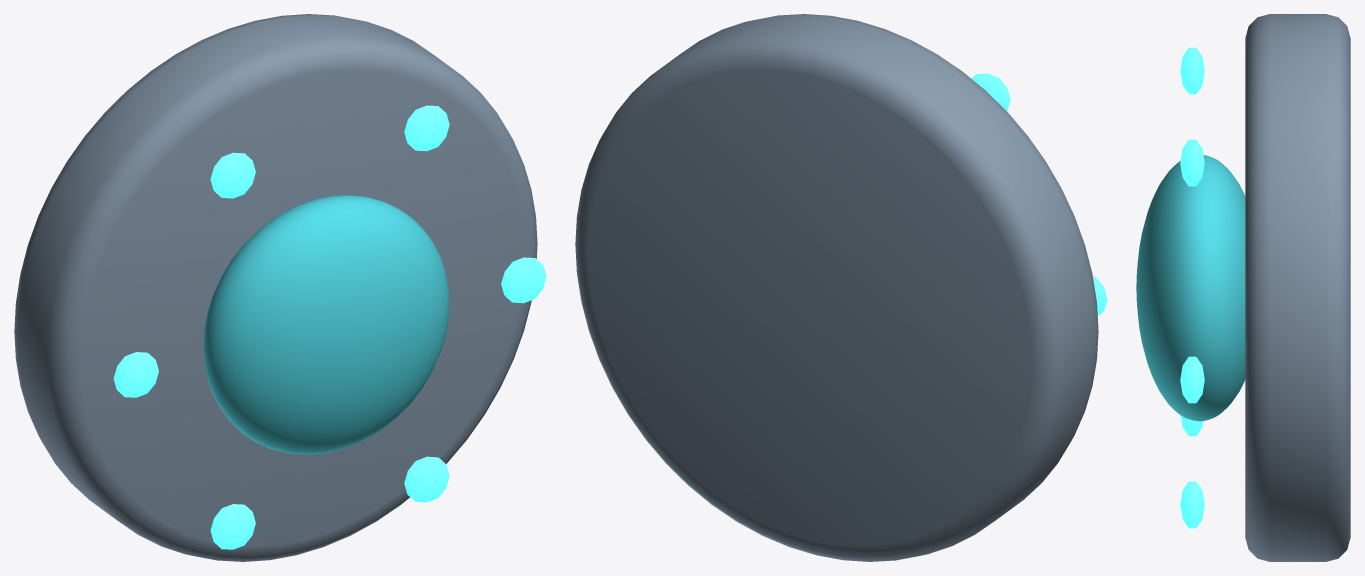
The model's file is shield_v4.glb.
3 views of the same model, side by side, from view 1: azimuth 30°, elevation 25°; view 2: azimuth 150°, elevation 25°; view 3: azimuth 270°, elevation 25° (orthographic). The views are drawn at different scales.
Parts seen in each view (by area): view 1: BUCKLER_PRIMARY, BUCKLER_BOSS_ACCENT, BUCKLER_STUD_EMISSIVE.004, BUCKLER_STUD_EMISSIVE.003, BUCKLER_STUD_EMISSIVE.001, BUCKLER_STUD_EMISSIVE, BUCKLER_STUD_EMISSIVE.002, BUCKLER_STUD_EMISSIVE.005; view 2: BUCKLER_PRIMARY, BUCKLER_STUD_EMISSIVE.002; view 3: BUCKLER_PRIMARY, BUCKLER_BOSS_ACCENT, BUCKLER_STUD_EMISSIVE, BUCKLER_STUD_EMISSIVE.001, BUCKLER_STUD_EMISSIVE.002, BUCKLER_STUD_EMISSIVE.005, BUCKLER_STUD_EMISSIVE.004.
Part boxes in pixels (<box>): BUCKLER_PRIMARY: <box>14,14,537,561</box>; BUCKLER_BOSS_ACCENT: <box>203,195,449,454</box>; BUCKLER_STUD_EMISSIVE.004: <box>210,504,255,549</box>; BUCKLER_STUD_EMISSIVE.003: <box>113,352,158,397</box>; BUCKLER_STUD_EMISSIVE.001: <box>404,105,449,151</box>; BUCKLER_STUD_EMISSIVE: <box>501,257,546,303</box>; BUCKLER_STUD_EMISSIVE.002: <box>210,152,255,198</box>; BUCKLER_STUD_EMISSIVE.005: <box>404,456,449,502</box>; BUCKLER_PRIMARY: <box>575,14,1098,561</box>; BUCKLER_STUD_EMISSIVE.002: <box>971,73,1010,111</box>; BUCKLER_PRIMARY: <box>1245,14,1350,561</box>; BUCKLER_BOSS_ACCENT: <box>1136,155,1245,421</box>; BUCKLER_STUD_EMISSIVE: <box>1180,356,1204,403</box>; BUCKLER_STUD_EMISSIVE.001: <box>1180,139,1204,186</box>; BUCKLER_STUD_EMISSIVE.002: <box>1180,47,1204,94</box>; BUCKLER_STUD_EMISSIVE.005: <box>1180,481,1204,528</box>; BUCKLER_STUD_EMISSIVE.004: <box>1180,415,1203,436</box>.
Bounding box in the file's own units: 1.56 × 1.56 × 0.61.
